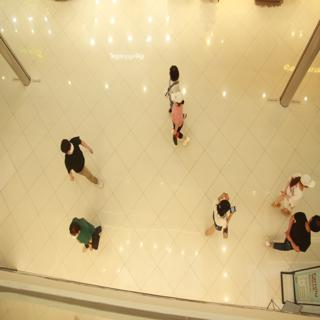person: (53, 128, 108, 195), (269, 208, 320, 258), (62, 201, 110, 251), (203, 186, 242, 244), (271, 164, 319, 209), (167, 83, 198, 149), (162, 62, 181, 100)
